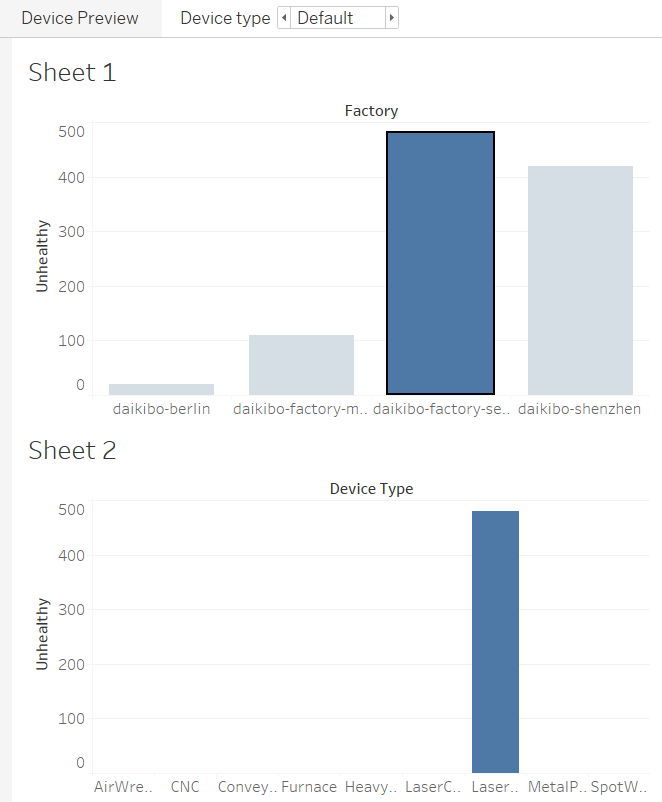

Layout of this report page (visuals, bound fields, positions):
{"tool":"tableau","page":{"name":"Dashboard 1","canvas":[650,860],"ordinal":0},"visuals":[{"type":"worksheet","title":"Sheet 1","mark":"Automatic","rows":["Calculation_1153765936416444417"],"cols":["factory"],"box":[8,8.9,634,421.1]},{"type":"worksheet","title":"Sheet 2","mark":"Automatic","rows":["Calculation_1153765936416444417"],"cols":["deviceType"],"box":[8,430,634,421.1]}]}

Visuals, with their boxes on the page's 650x860 design canvas (x1, y1, x2, y2). These are canvas units, not pixel positions in the 662x802 screenshot, which may show the page scaled, cropped or inside an application window:
"Sheet 1" worksheet: bbox=[8, 9, 642, 430]
"Sheet 2" worksheet: bbox=[8, 430, 642, 851]
